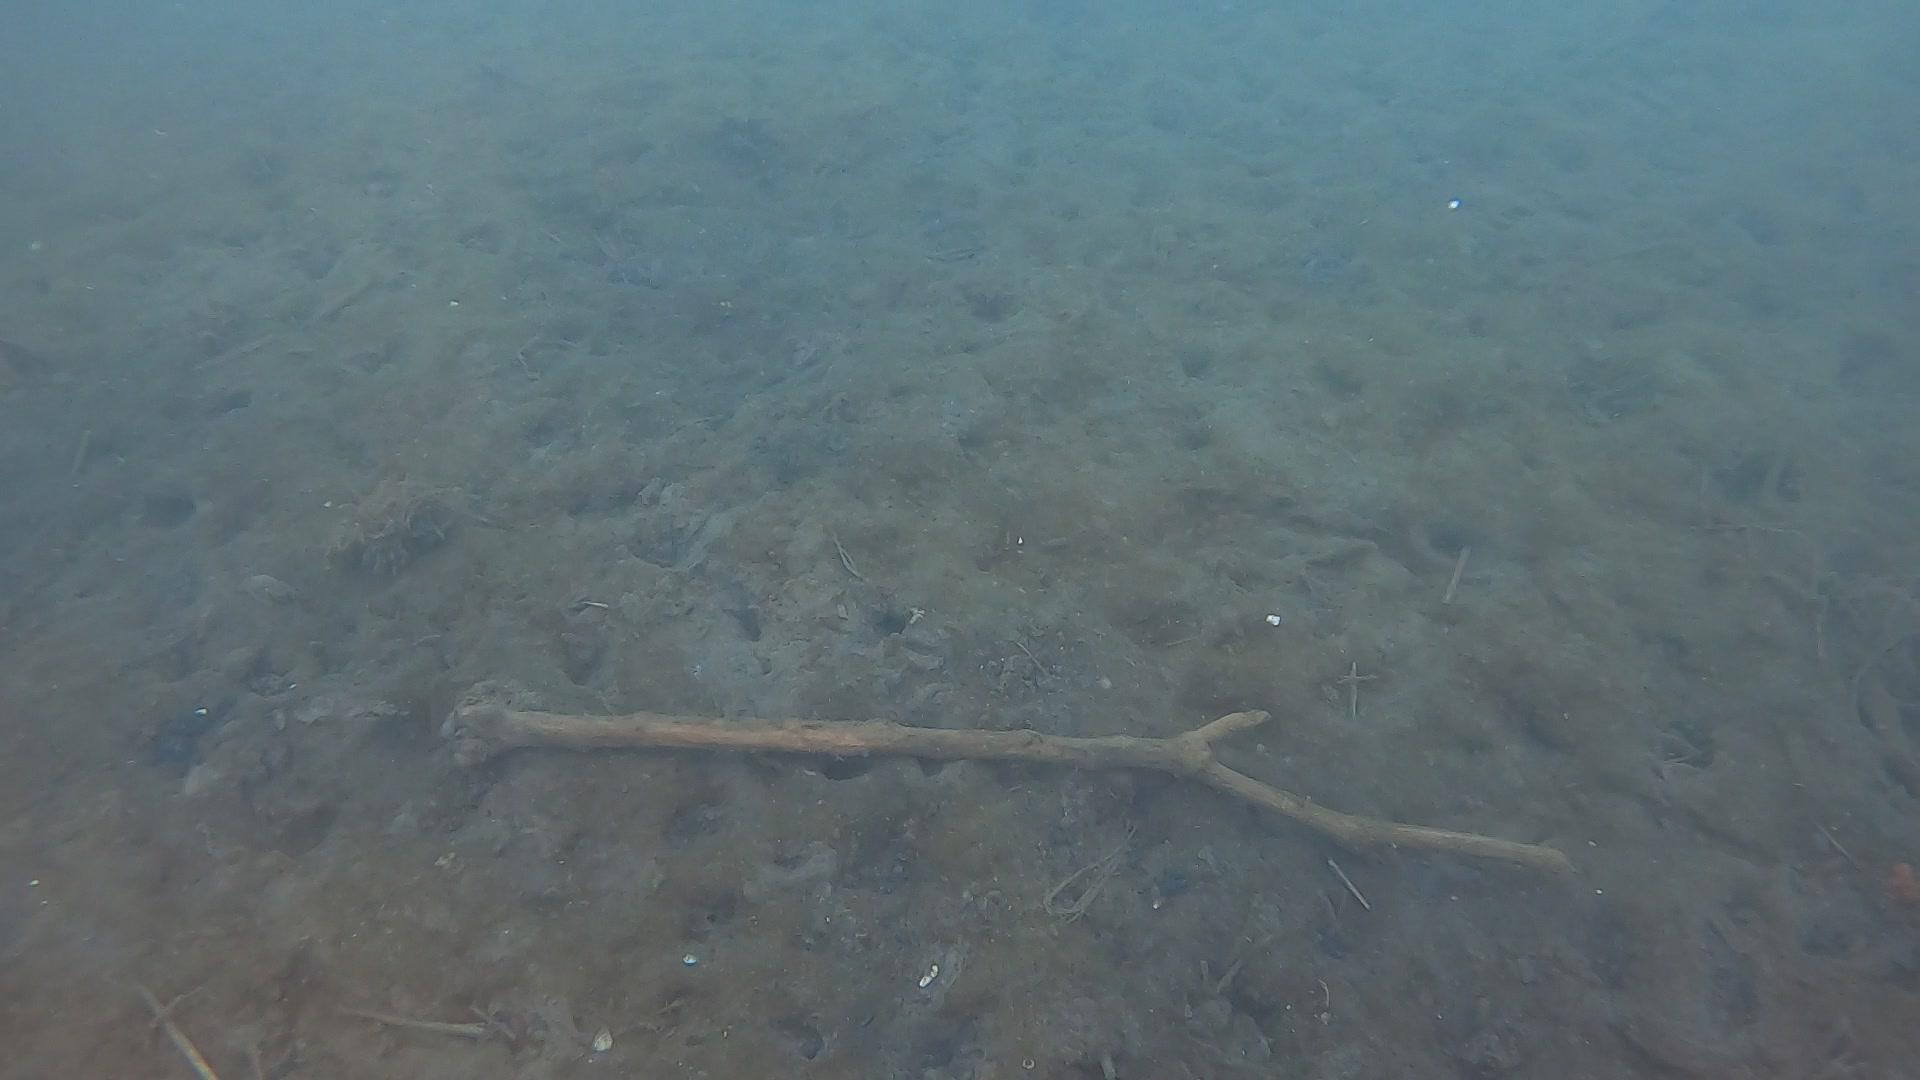wood: (444, 703, 1568, 860)
